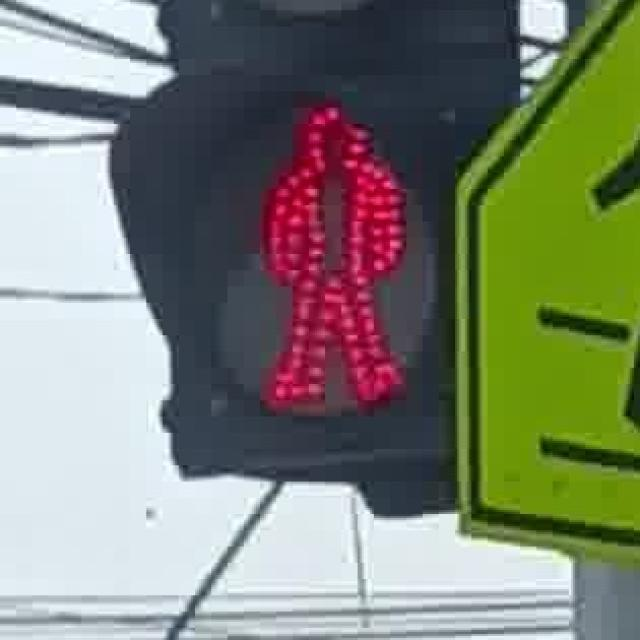red_light: (235, 75, 420, 431)
